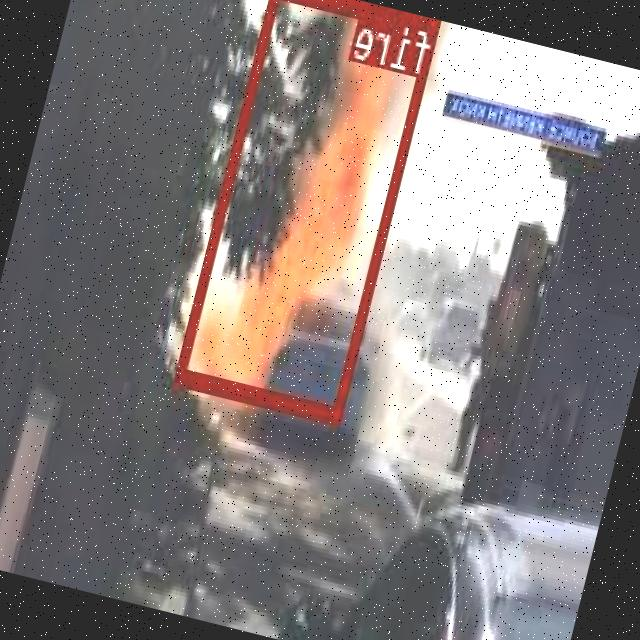fire: (176, 0, 441, 423)
